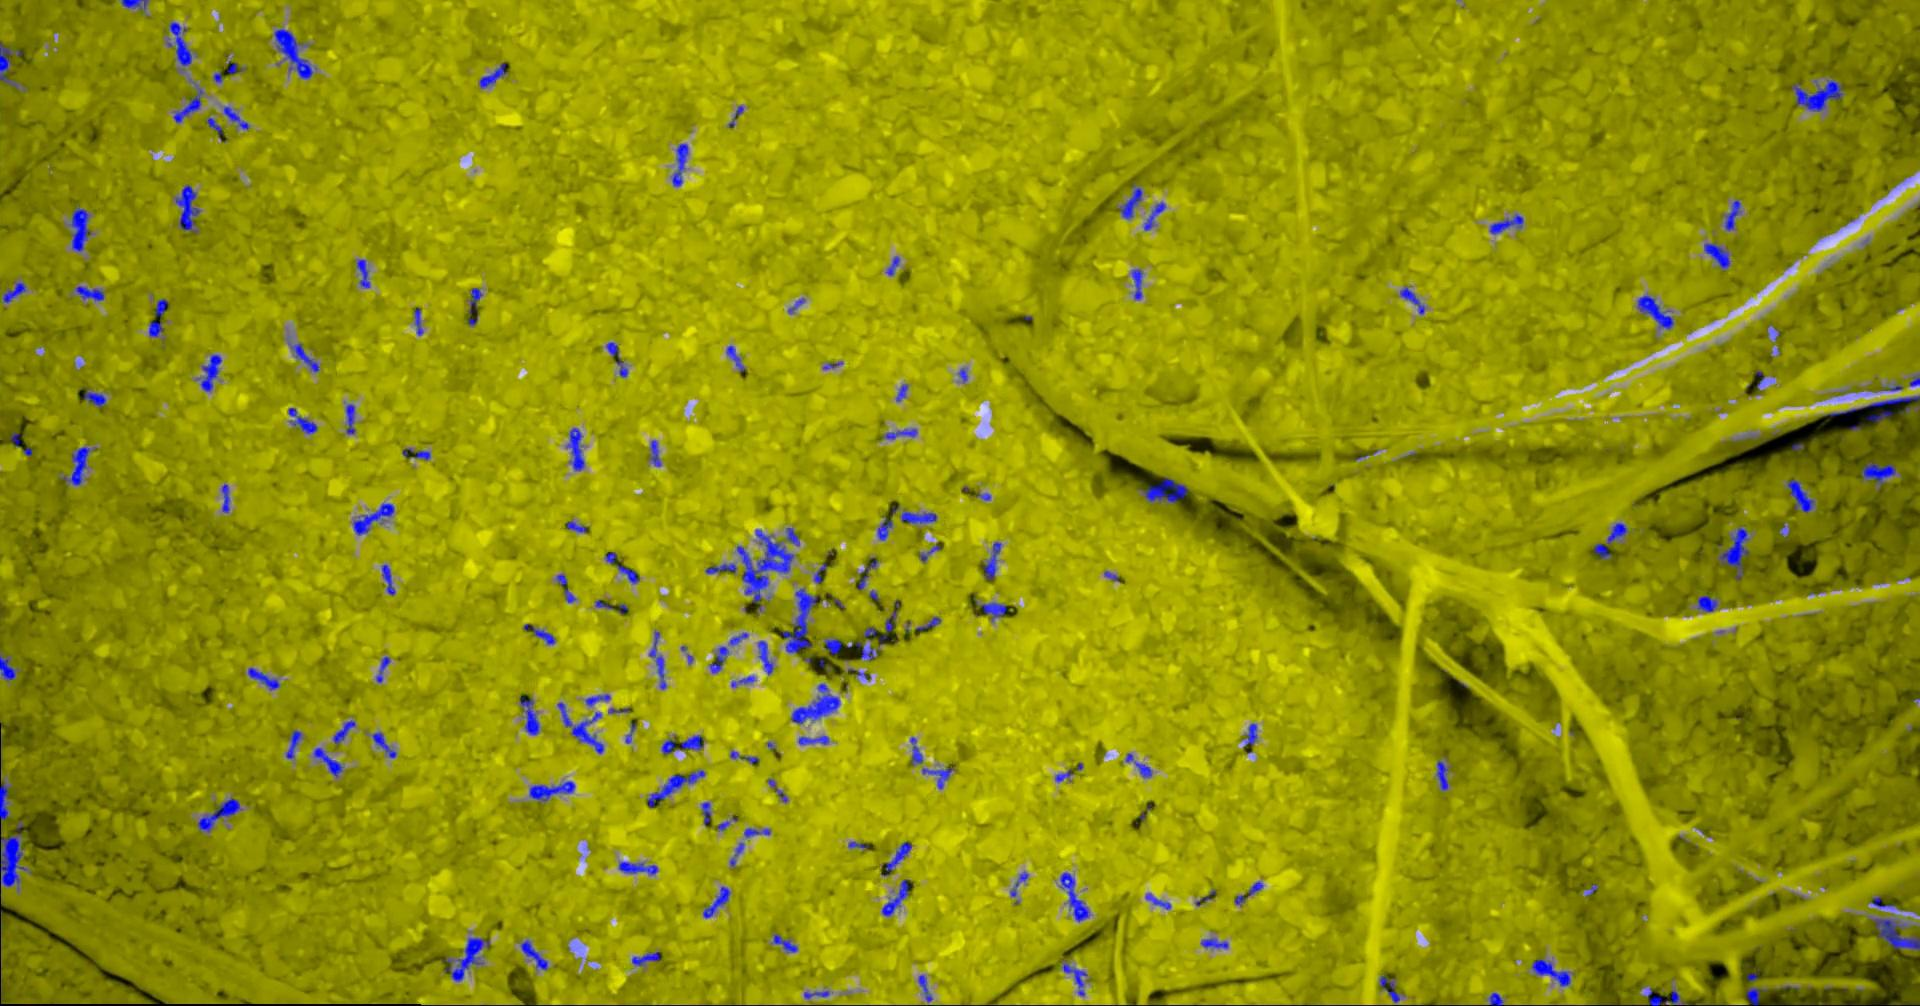ant: (781, 588, 818, 653), (557, 702, 603, 753), (648, 768, 703, 807), (1827, 395, 1919, 417), (273, 28, 312, 77), (790, 683, 839, 723), (444, 937, 489, 981), (0, 821, 27, 890), (1790, 79, 1843, 111), (1869, 917, 1919, 949), (1719, 527, 1749, 579), (197, 796, 239, 832), (1059, 873, 1090, 921), (62, 446, 97, 485), (352, 503, 394, 535), (1592, 522, 1627, 559), (1637, 295, 1672, 329), (823, 638, 879, 659), (166, 22, 190, 70), (175, 184, 199, 232), (1142, 478, 1187, 503), (604, 551, 639, 583), (1531, 958, 1570, 986), (173, 88, 203, 122), (881, 879, 909, 916), (648, 631, 665, 688), (70, 205, 91, 251), (1785, 478, 1815, 512), (881, 841, 910, 875), (0, 42, 22, 88), (528, 780, 574, 801), (312, 747, 343, 777), (1862, 461, 1895, 489), (879, 600, 899, 644), (197, 354, 221, 391), (702, 887, 730, 918), (290, 343, 319, 371), (604, 340, 627, 376), (287, 406, 317, 433), (521, 939, 547, 969), (1062, 963, 1087, 995), (1119, 184, 1142, 218), (566, 427, 584, 470), (248, 667, 279, 690), (519, 696, 538, 734), (1647, 987, 1688, 1005), (670, 144, 687, 185), (1703, 243, 1730, 268), (1234, 882, 1263, 904), (523, 622, 554, 644), (922, 766, 952, 788), (857, 558, 877, 589), (479, 62, 505, 86), (1399, 287, 1423, 314), (372, 730, 396, 757), (1143, 201, 1164, 230), (1490, 213, 1523, 232), (983, 541, 999, 579), (223, 105, 249, 130), (331, 719, 356, 743), (467, 287, 483, 325), (555, 574, 575, 602), (757, 640, 773, 674), (1379, 976, 1399, 1002), (206, 117, 227, 141), (0, 282, 25, 302), (726, 345, 745, 371), (709, 647, 728, 672), (618, 861, 657, 874), (0, 653, 18, 680), (1724, 199, 1740, 230), (767, 779, 787, 801), (979, 602, 1007, 619), (284, 730, 301, 758), (1010, 871, 1029, 895), (772, 934, 797, 951), (0, 780, 9, 829), (902, 511, 936, 523), (75, 285, 103, 300), (381, 564, 395, 594), (1745, 986, 1766, 1005), (729, 749, 758, 763), (375, 655, 390, 682), (917, 974, 932, 1001), (1145, 893, 1170, 909), (356, 259, 370, 287), (631, 951, 659, 965), (83, 390, 105, 406), (1865, 409, 1895, 422), (916, 616, 940, 631), (885, 428, 917, 439), (919, 544, 940, 561), (909, 735, 922, 763), (681, 734, 703, 749), (1436, 760, 1448, 790), (877, 516, 891, 540), (729, 842, 743, 866), (1697, 594, 1717, 611), (401, 447, 430, 459), (345, 403, 356, 434), (705, 563, 737, 573), (1131, 269, 1142, 298), (584, 694, 610, 705), (1243, 723, 1256, 746), (119, 0, 147, 10), (730, 674, 754, 686), (1870, 895, 1895, 907), (1134, 761, 1150, 777), (650, 439, 660, 466), (797, 735, 828, 744), (743, 827, 770, 837), (1200, 937, 1227, 948), (885, 257, 899, 276), (813, 563, 825, 583), (662, 738, 677, 754), (154, 298, 168, 316), (413, 307, 422, 335), (785, 527, 799, 545), (566, 520, 585, 532), (803, 989, 829, 998), (226, 60, 244, 72), (729, 633, 747, 645), (1054, 768, 1072, 781), (221, 483, 229, 512), (701, 801, 710, 826), (149, 321, 163, 337), (895, 384, 907, 401), (1490, 992, 1503, 1005), (1879, 384, 1902, 390)
